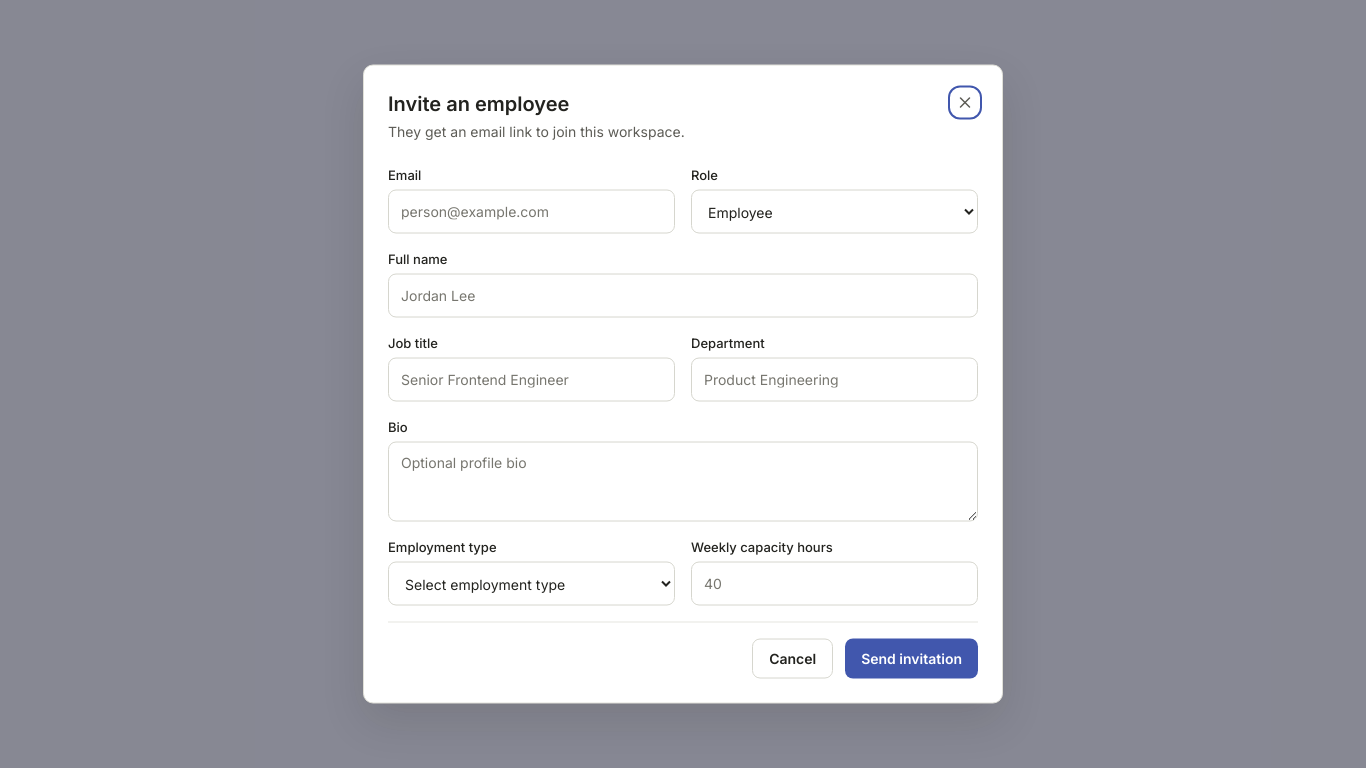
InviteMemberDialog › switches fields by role
Check: the dropdown labelled "Employment type" is shown, box [388, 562, 675, 606]
Check: the number field labelled "Weekly capacity hours" is shown, box [691, 562, 978, 606]
Select "Supervisor" in the dropdown labelled "Role": (834, 212) [691, 190, 978, 234]
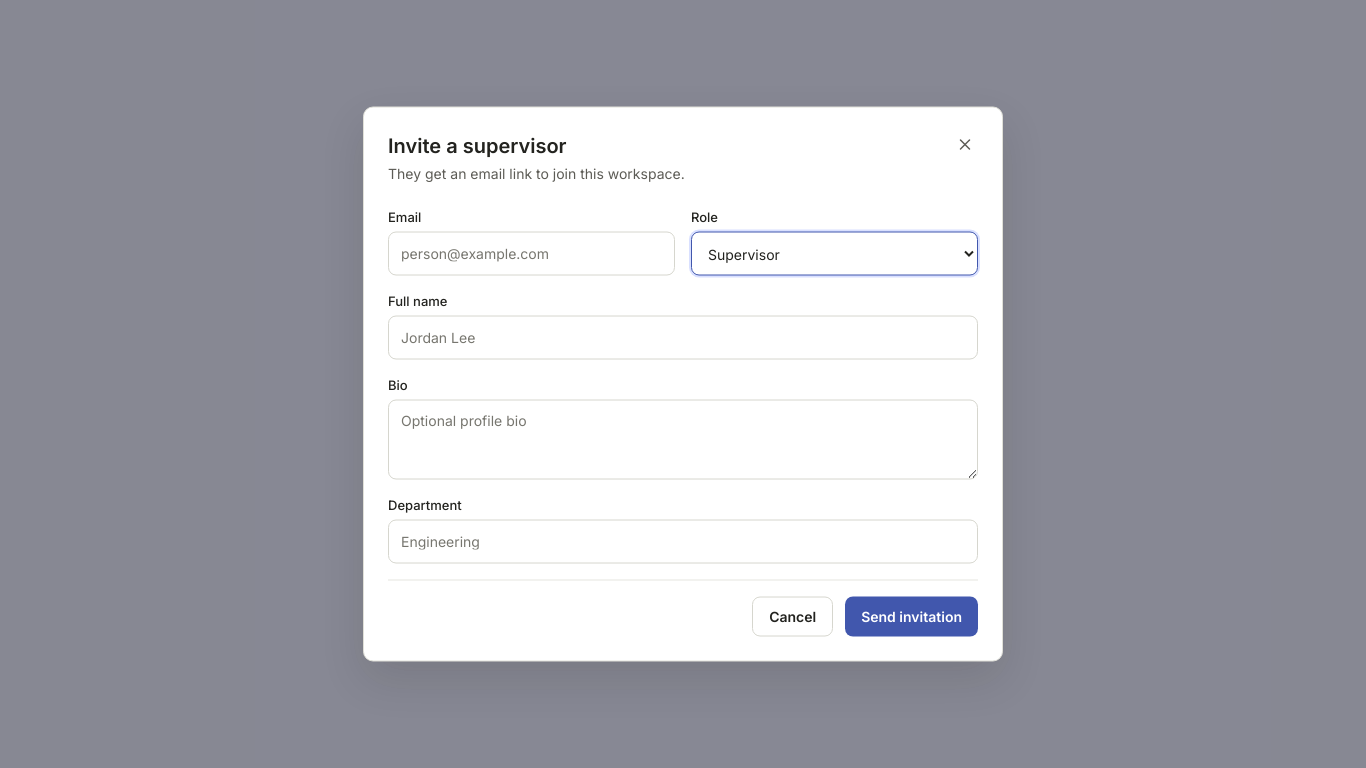
Check: the label labelled "Job title" is gone
Check: the label labelled "Employment type" is gone
Check: the label labelled "Weekly capacity hours" is gone
